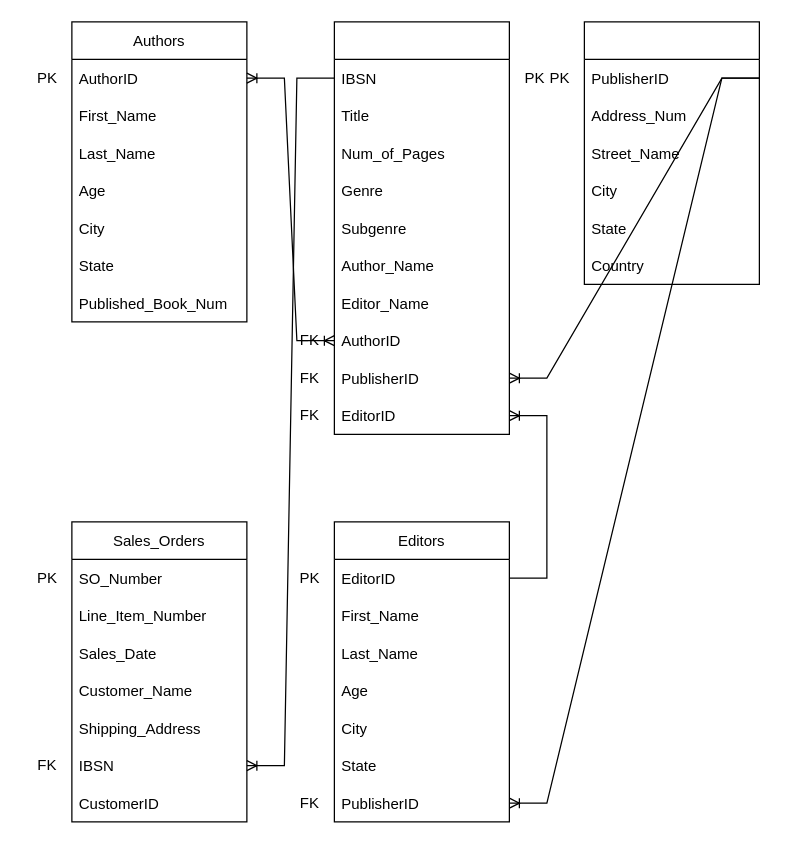
Image size: 791x844. Some labels were removed from this diagram. Each missing label, with the box of its shape:
Books: (333, 21, 509, 434)
Publishers: (583, 21, 759, 284)
